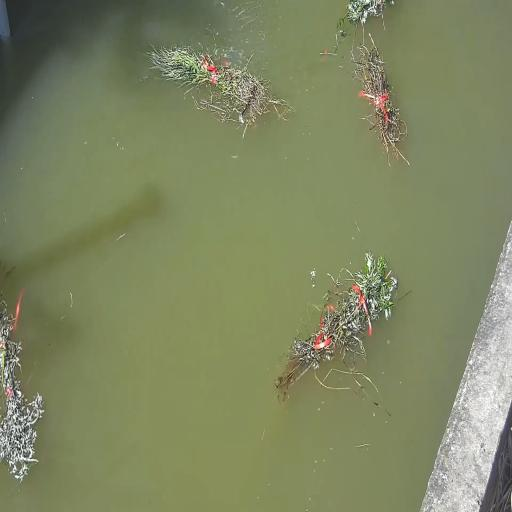twig: (277, 247, 402, 405), (144, 40, 289, 137), (0, 278, 46, 484), (352, 36, 409, 169), (333, 1, 392, 47)
